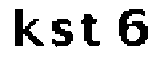6: (116, 6, 152, 47)
k: (10, 7, 43, 53)
s: (48, 19, 75, 50)
t: (79, 12, 104, 48)
